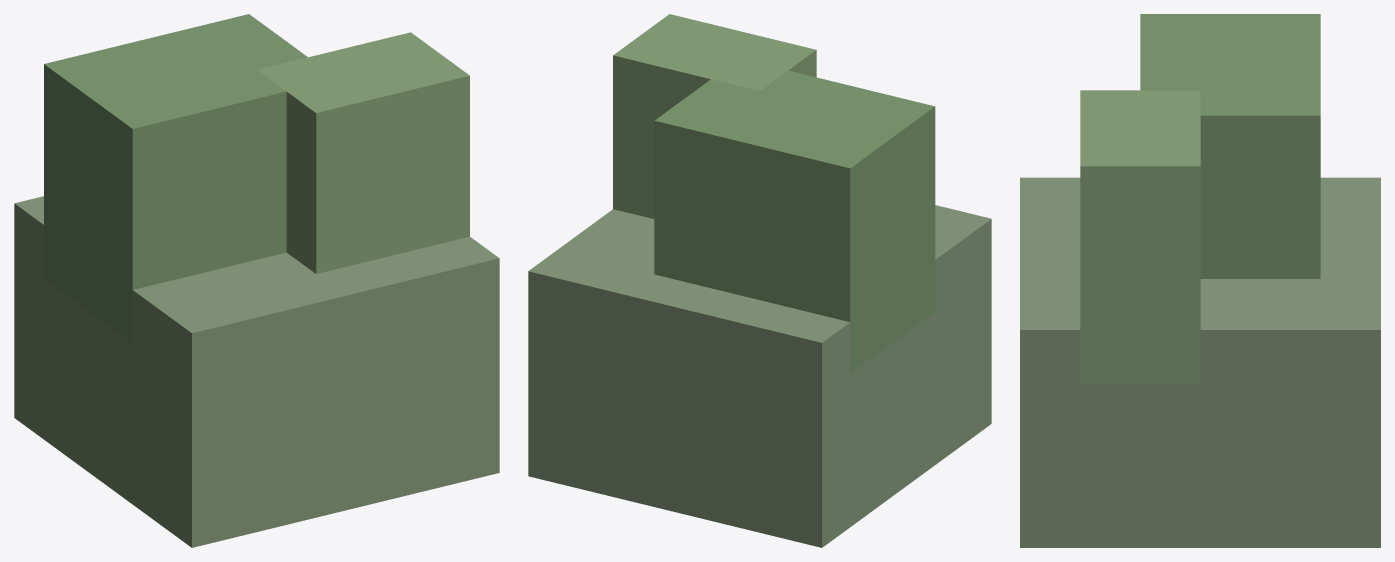
File: maceta_pequena_01.glb
3 renders of one model, left to right at view 1: azimuth 30°, elevation 25°; view 2: azimuth 150°, elevation 25°; view 3: azimuth 270°, elevation 25°, orthographic. The views are drawn at different scales.
Parts seen in each view (by area): view 1: maceta_pequena; view 2: maceta_pequena; view 3: maceta_pequena.
Part boxes in pixels (x1=…): maceta_pequena: x1=14, y1=14, x2=499, y2=547; maceta_pequena: x1=528, y1=14, x2=991, y2=547; maceta_pequena: x1=1020, y1=14, x2=1380, y2=547.
Bounding box in the file's own units: 0.6 × 0.7 × 0.6.
